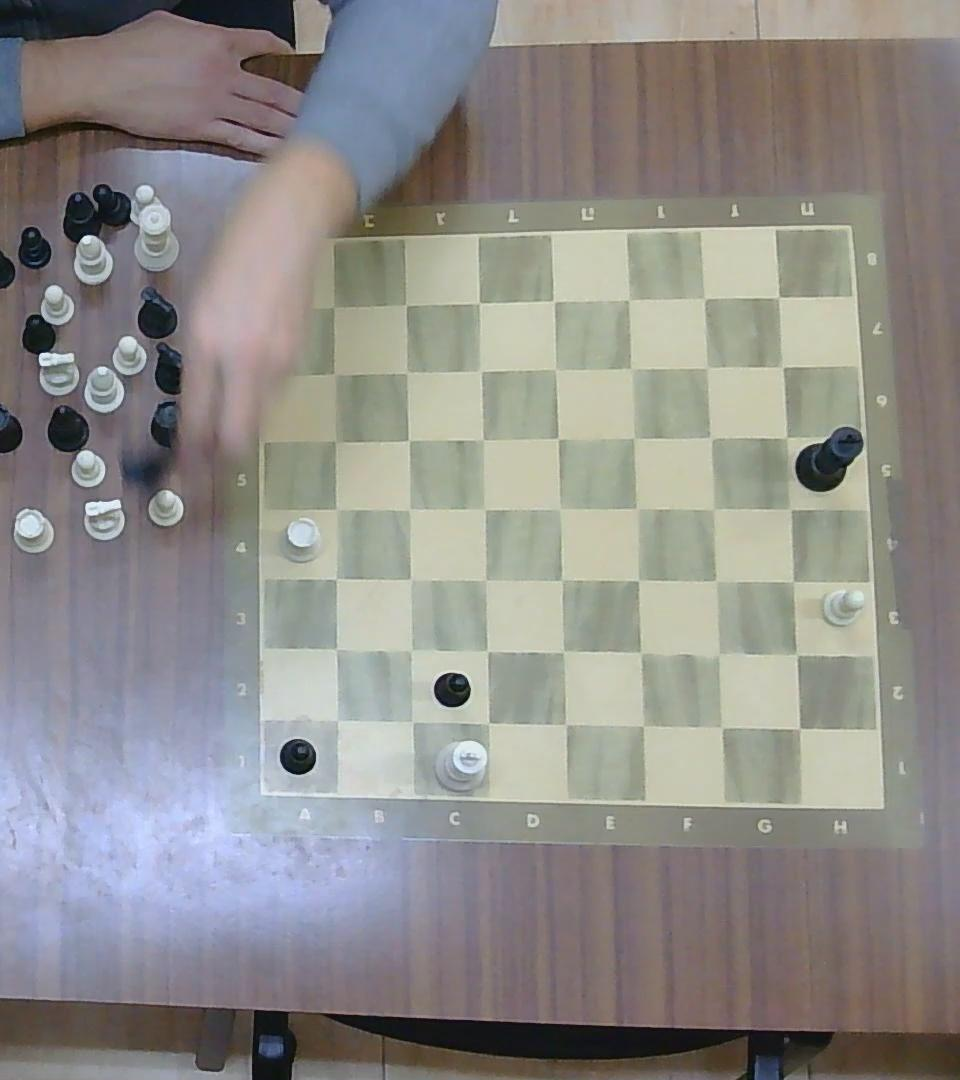xcorner: (548, 706, 580, 738), (702, 638, 734, 670), (471, 706, 503, 738), (705, 710, 736, 743), (625, 635, 656, 667), (783, 711, 814, 743), (626, 709, 657, 741), (781, 638, 812, 670), (622, 563, 652, 594), (465, 286, 495, 317), (396, 705, 427, 735), (548, 636, 578, 666), (615, 283, 645, 313), (700, 565, 730, 595), (539, 285, 569, 315), (321, 705, 351, 735), (320, 563, 350, 593), (622, 492, 651, 523), (471, 494, 500, 524), (548, 565, 577, 595), (392, 288, 421, 318), (395, 635, 425, 664), (470, 566, 501, 594), (699, 493, 728, 522), (776, 493, 805, 522), (777, 567, 806, 596), (395, 564, 424, 593), (617, 353, 646, 382), (767, 351, 796, 380), (471, 637, 501, 665), (547, 493, 575, 522), (620, 422, 648, 451), (470, 424, 498, 453), (543, 353, 571, 382), (691, 284, 720, 312), (321, 635, 350, 663), (693, 352, 722, 380), (765, 282, 793, 311), (545, 424, 573, 452), (467, 355, 495, 383), (395, 495, 423, 523), (320, 291, 348, 319), (322, 495, 350, 523), (393, 357, 421, 385), (698, 422, 725, 451), (772, 423, 801, 450), (320, 426, 349, 453), (395, 426, 423, 453), (320, 360, 348, 385)
